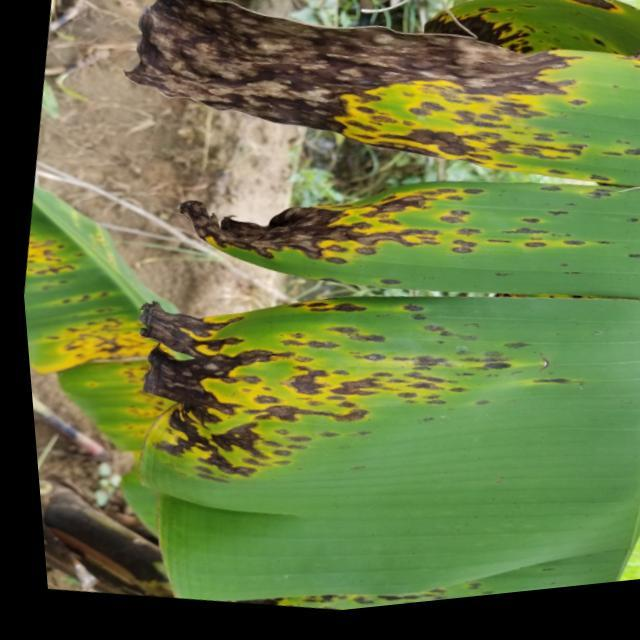Early_rust: (13, 4, 640, 483), (238, 560, 480, 618)
